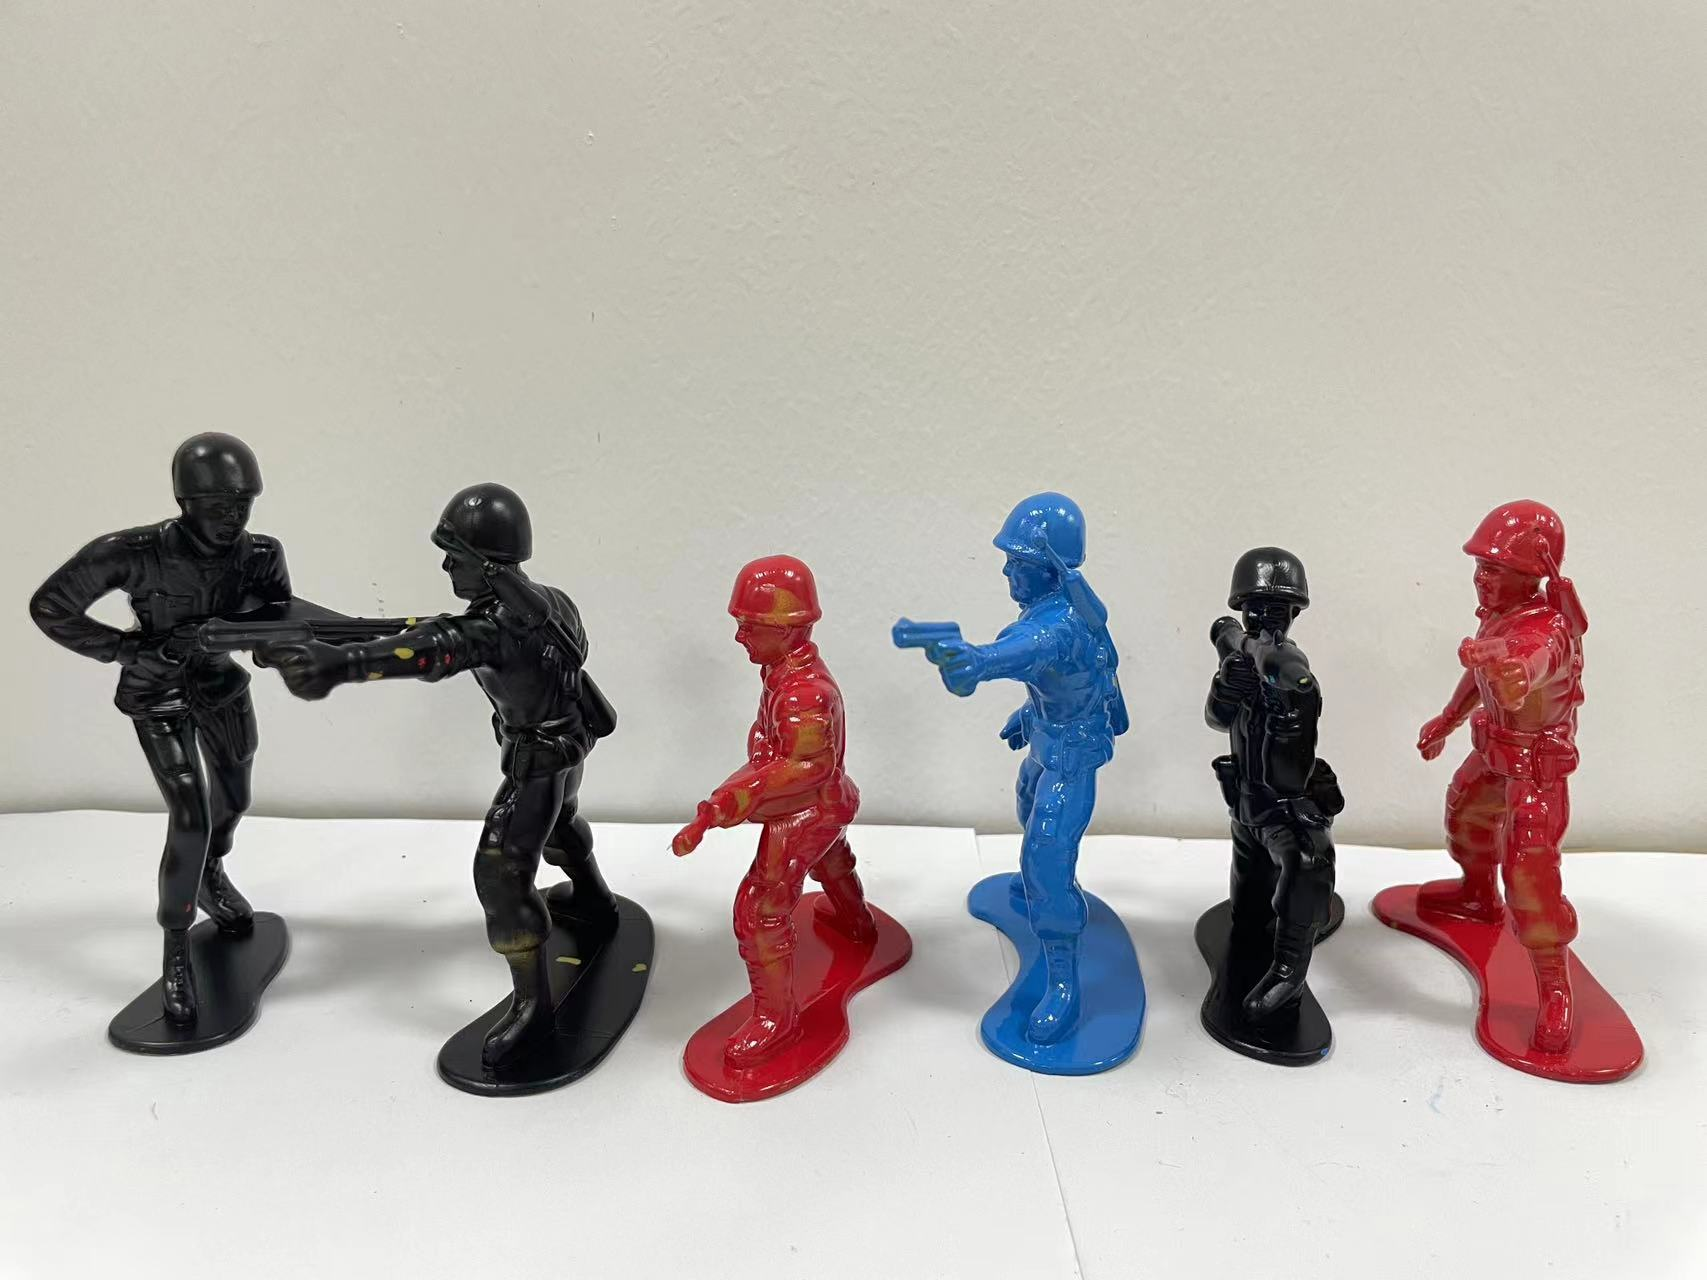black: (7, 411, 401, 1113), (333, 469, 659, 1121), (1167, 524, 1388, 1121)
blue: (868, 450, 1185, 1146)
red: (1356, 467, 1698, 1133), (655, 484, 927, 1137)
